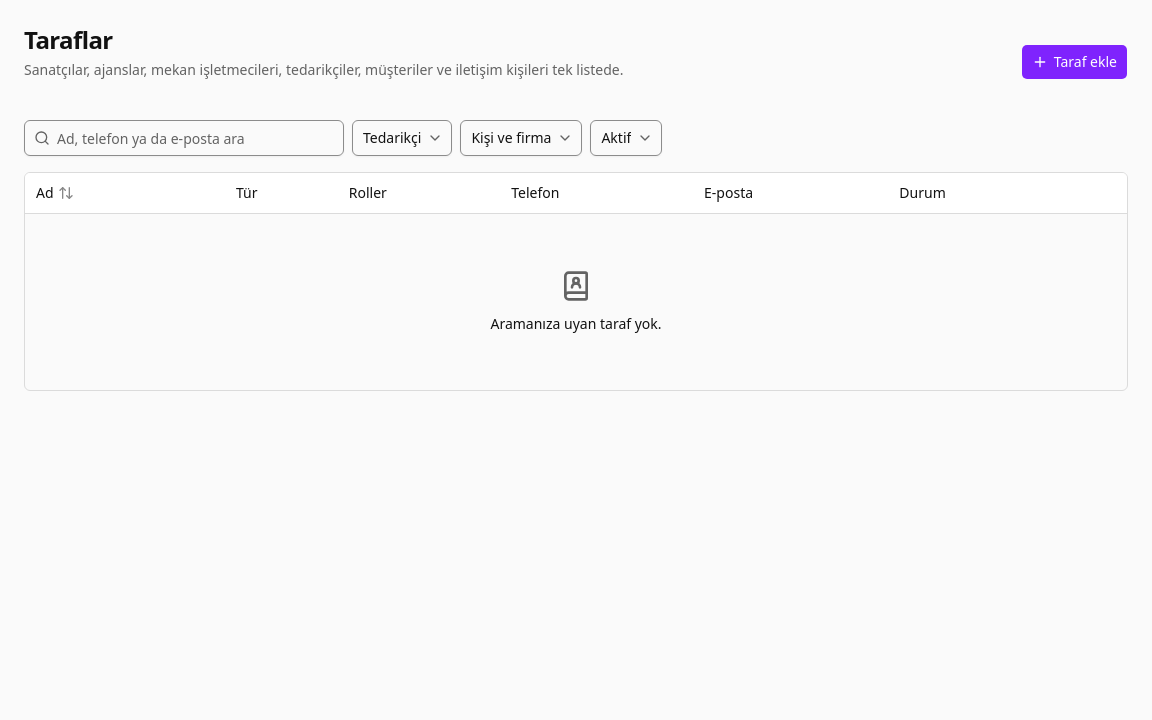
PartiesPage › shows the rule under the roles when the server refuses a party without one
Click the button "Taraf ekle" at [1074, 62], box [1021,44,1128,80]
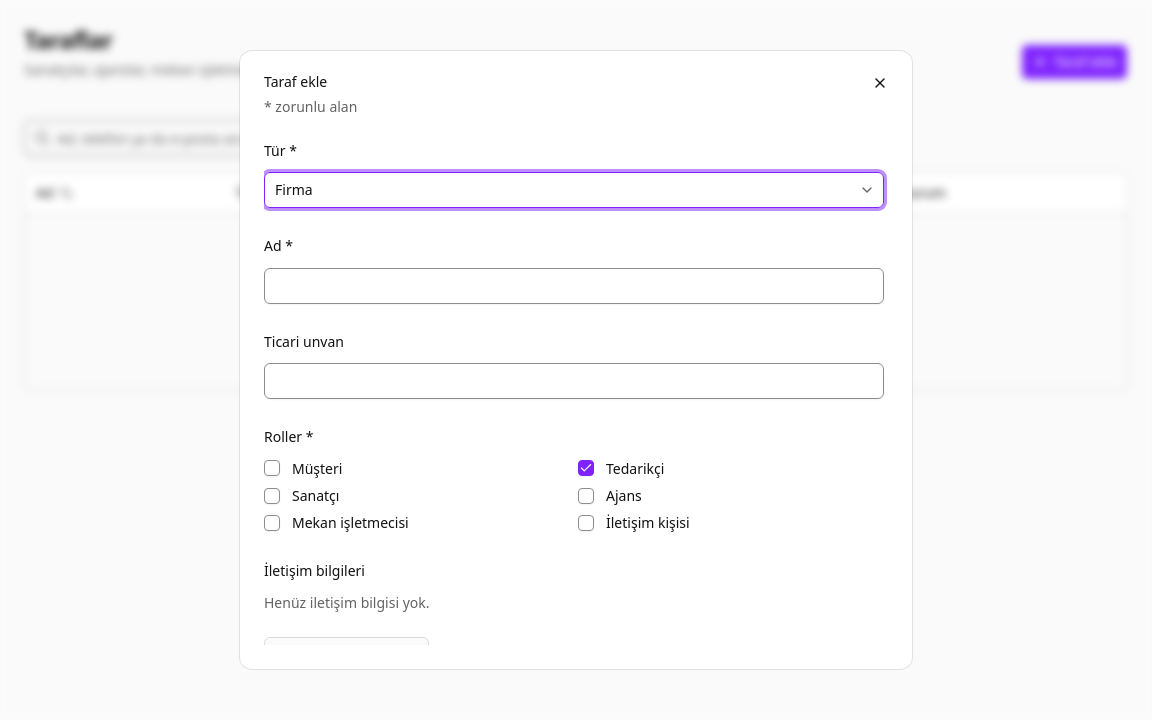
Type "Işık Ses" into the field labelled "Ad *" at [574, 286], box [264,268,884,304]
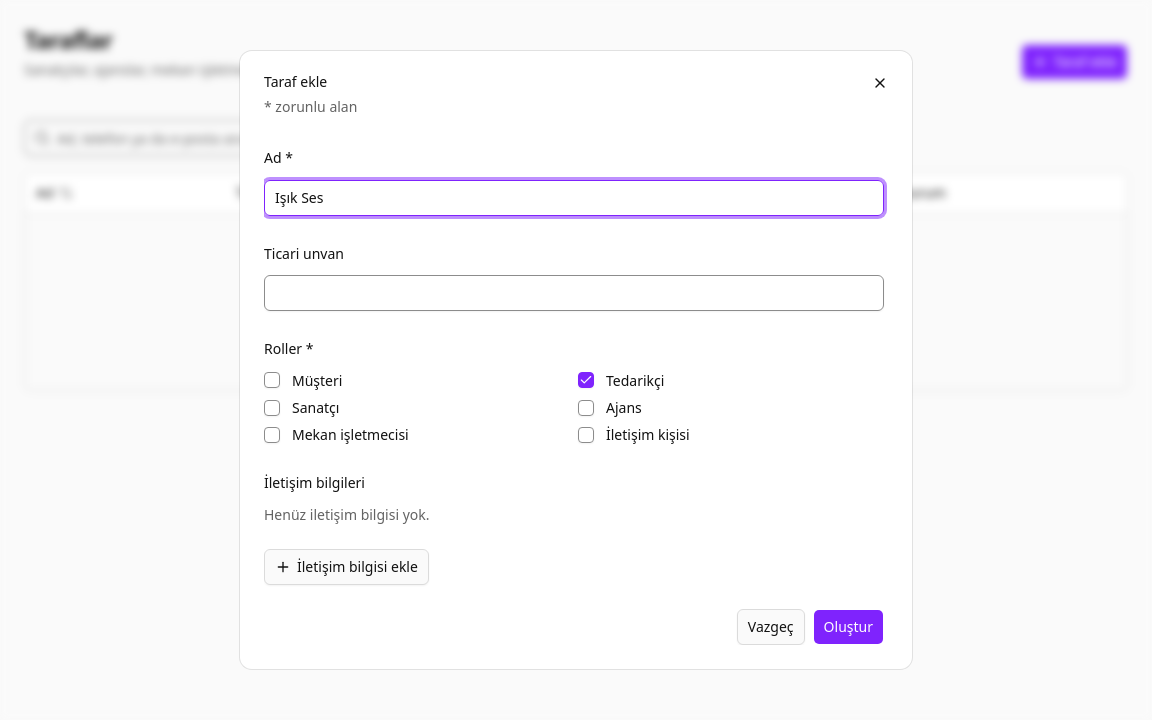
Click the button "Oluştur" at [848, 626], box [813,608,884,644]
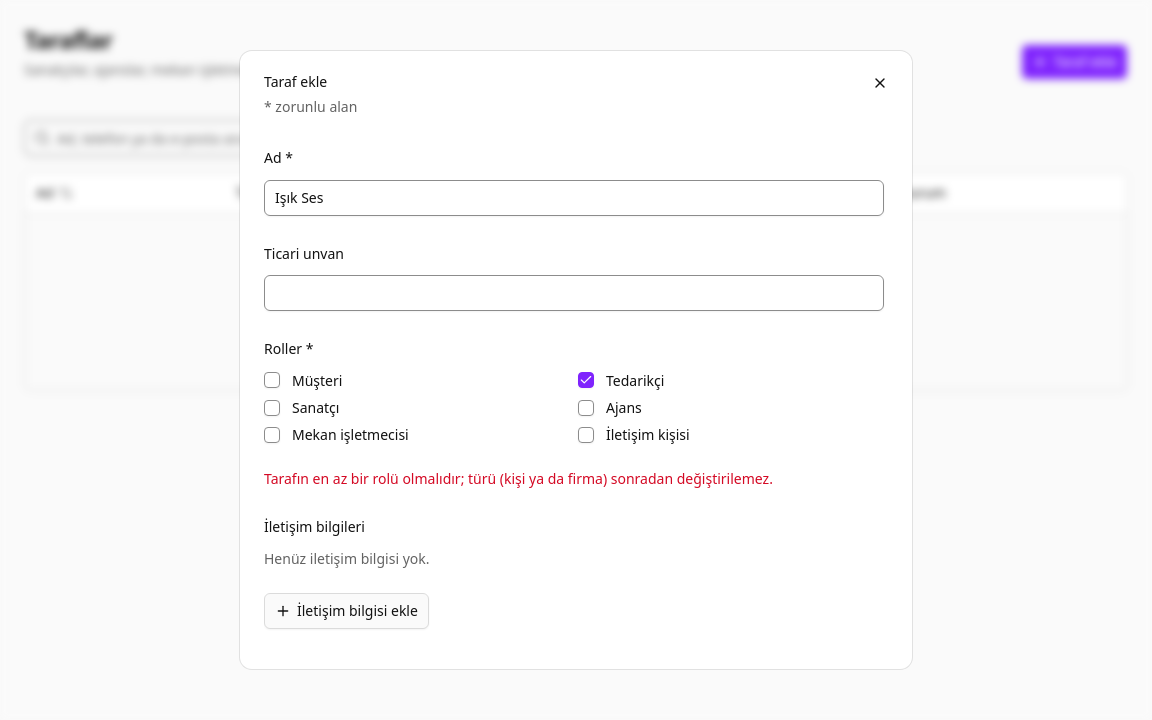
expect the text "en az bir rolü olmalıdır" is shown: met, box [264,468,773,488]
